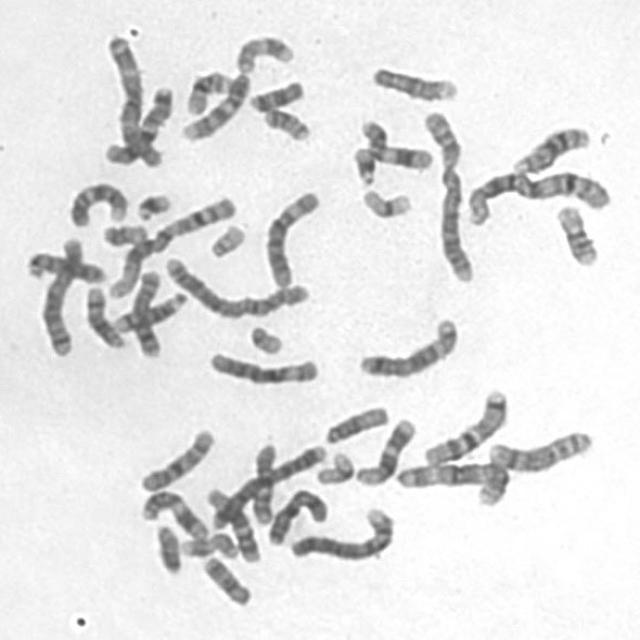A1: (101, 190, 241, 300), (460, 161, 614, 227)
A2: (160, 250, 312, 320), (418, 103, 476, 285)
A3: (100, 28, 167, 168), (390, 454, 513, 509)
B4: (204, 437, 331, 532), (284, 501, 398, 564)
B5: (353, 311, 462, 380), (34, 229, 86, 358)
C10: (133, 422, 218, 494), (247, 438, 279, 526)
C11: (354, 112, 436, 172), (136, 483, 212, 542)
C12: (349, 410, 419, 488), (202, 480, 264, 564)
C6: (257, 184, 323, 288), (203, 344, 322, 387)
C7: (418, 382, 511, 468), (104, 85, 174, 167)
C8: (482, 422, 596, 475), (127, 264, 166, 359)
C9: (174, 66, 253, 142), (63, 175, 131, 228)
D13: (506, 118, 594, 177), (20, 245, 109, 285)
D14: (110, 285, 188, 335), (79, 278, 129, 350)
D15: (366, 59, 461, 103), (319, 399, 392, 446)
E16: (550, 198, 602, 268), (181, 64, 234, 117)
E17: (229, 28, 297, 75), (173, 528, 241, 560)
E18: (196, 550, 254, 608), (243, 74, 307, 114)
F19: (356, 181, 415, 221), (310, 446, 356, 487)
F20: (258, 102, 314, 142), (96, 218, 150, 248)
G21: (129, 185, 175, 223), (347, 140, 379, 187)
G22: (204, 217, 248, 260), (244, 318, 286, 356)
X: (261, 482, 332, 547)
Y: (148, 518, 184, 577)
